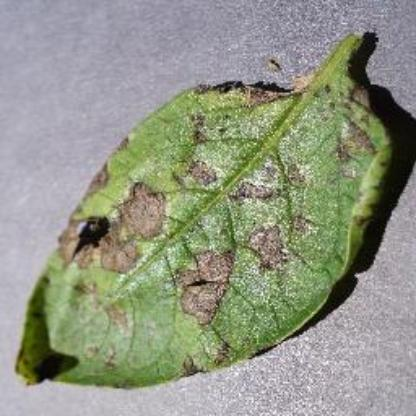Early-Blight: (17, 26, 402, 388)
